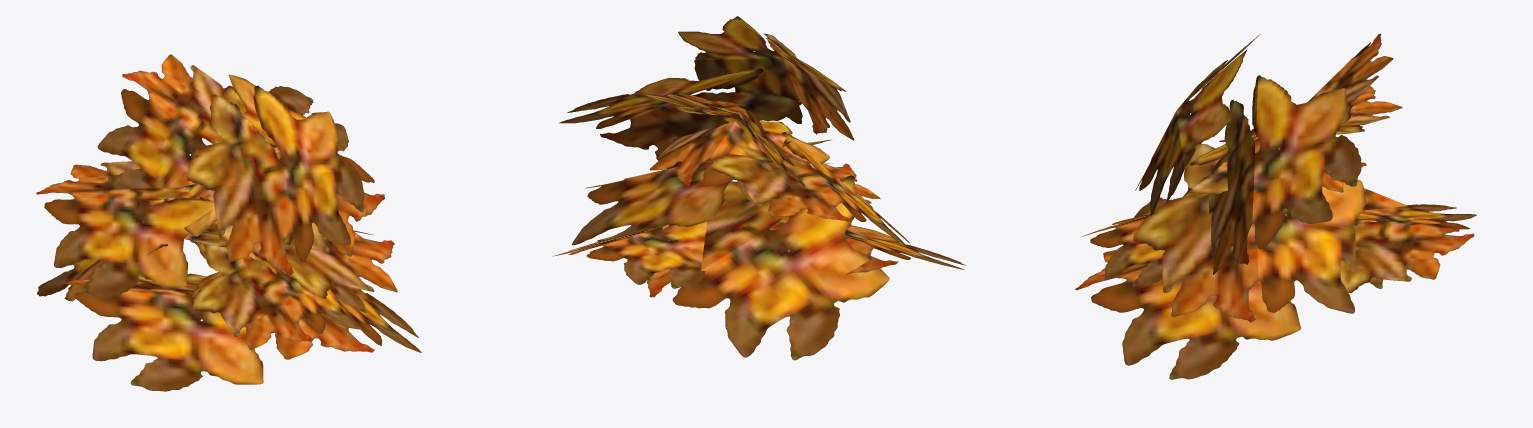
Rendered from hua10.FBX.
3 views of the same model, side by side, from view 1: azimuth 30°, elevation 25°; view 2: azimuth 150°, elevation 25°; view 3: azimuth 270°, elevation 25° (orthographic). The views are drawn at different scales.
Visible parts, largest first — view 1: hua10; view 2: hua10; view 3: hua10.
Boxes of the visible parts, box(x1,y1,x2,y2) form: hua10: box(36, 54, 421, 391); hua10: box(553, 16, 965, 360); hua10: box(1075, 33, 1476, 379).
Size of the model in its own units: 67.52 by 45.95 by 64.34.
